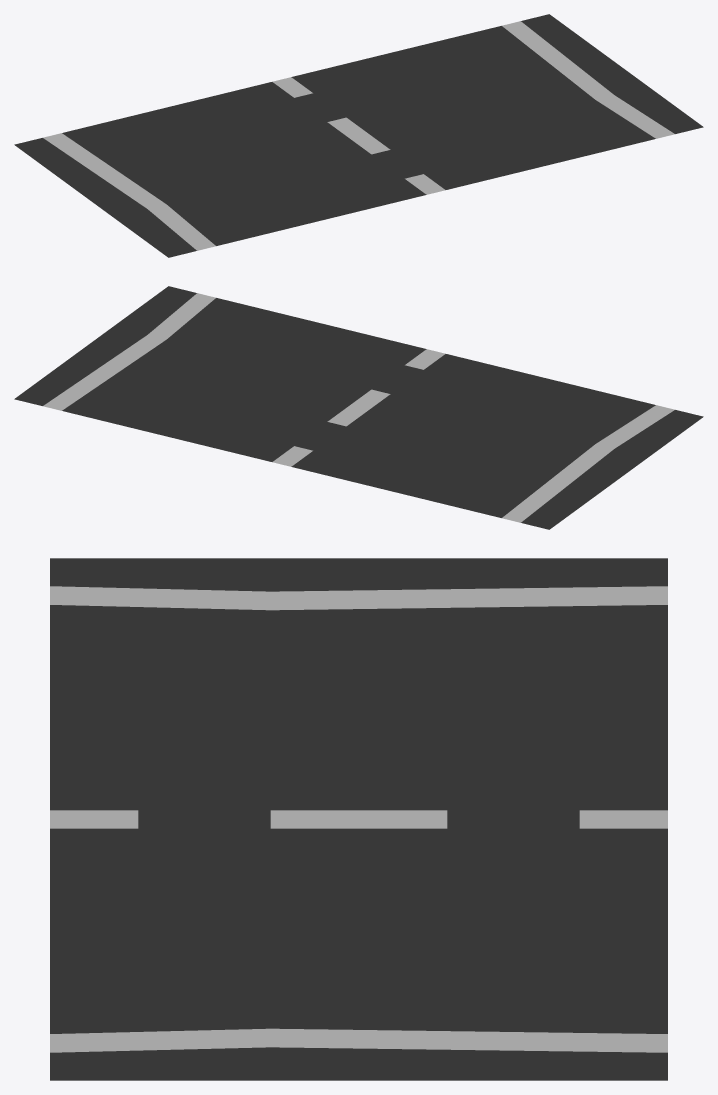
Rendered from M_CrossRoad700x350_01.fbx.
3 views of the same model, one above another, from view 1: azimuth 30°, elevation 25°; view 2: azimuth 150°, elevation 25°; view 3: azimuth 270°, elevation 25° (orthographic). The views are drawn at different scales.
Visible parts, largest first — view 1: M_CrossRoad700x350_01; view 2: M_CrossRoad700x350_01; view 3: M_CrossRoad700x350_01.
Part boxes in pixels (x1,y1,x2,y2): M_CrossRoad700x350_01: (14,14,703,257); M_CrossRoad700x350_01: (14,286,703,529); M_CrossRoad700x350_01: (50,558,667,1080).
Bounding box in the file's own units: 700 × 350 × 7.35e-22.
